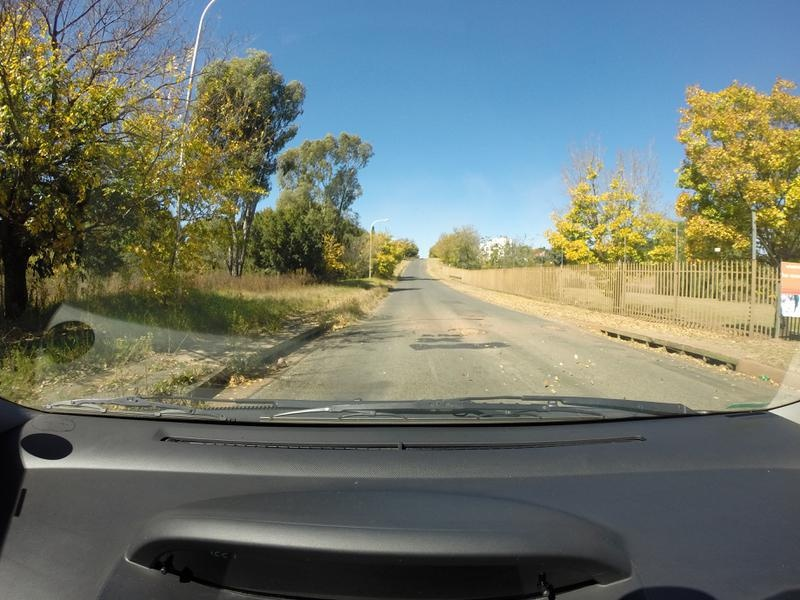pothole: (440, 317, 501, 345)
